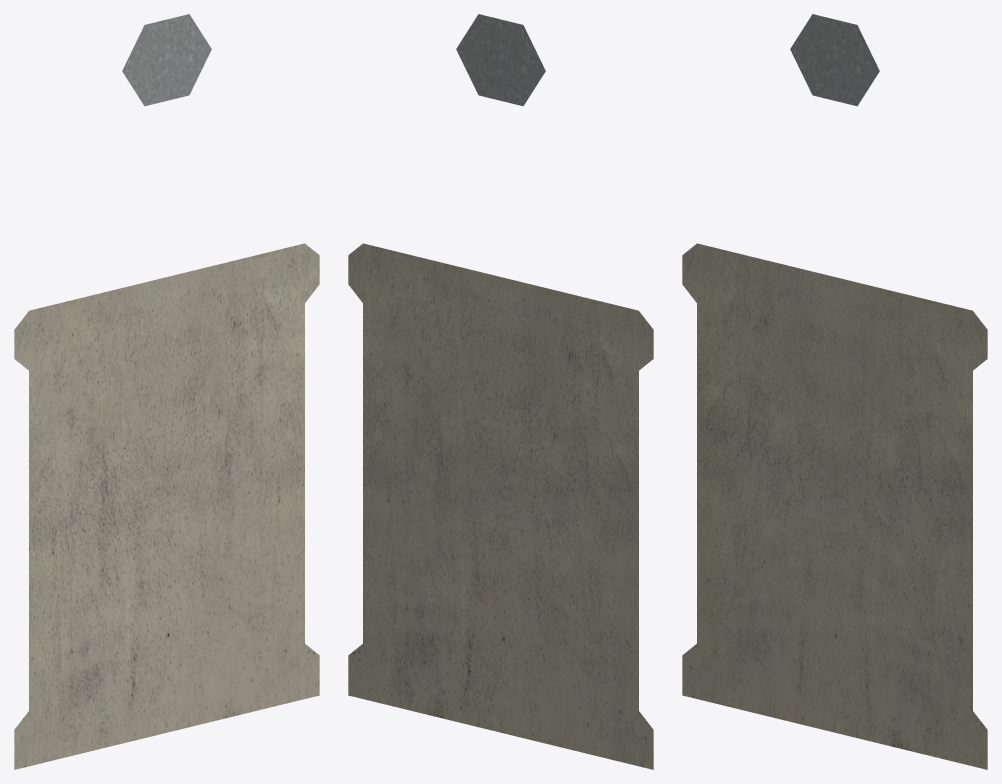
The model's file is GSDRailing8-Cap.fbx.
The picture shows the model from 3 angles, left to right: view 1: azimuth 30°, elevation 25°; view 2: azimuth 150°, elevation 25°; view 3: azimuth 330°, elevation 25°; orthographic projection.
Visible parts, largest first — view 1: GSDRailing8-Cap; view 2: GSDRailing8-Cap; view 3: GSDRailing8-Cap.
Boxes of the visible parts, box(x1,y1,x2,y2) form: GSDRailing8-Cap: box(14, 14, 319, 769); GSDRailing8-Cap: box(348, 14, 653, 769); GSDRailing8-Cap: box(682, 14, 987, 769).
Bounding box in the file's own units: 0.45 × 1 × 1.01e-06.
